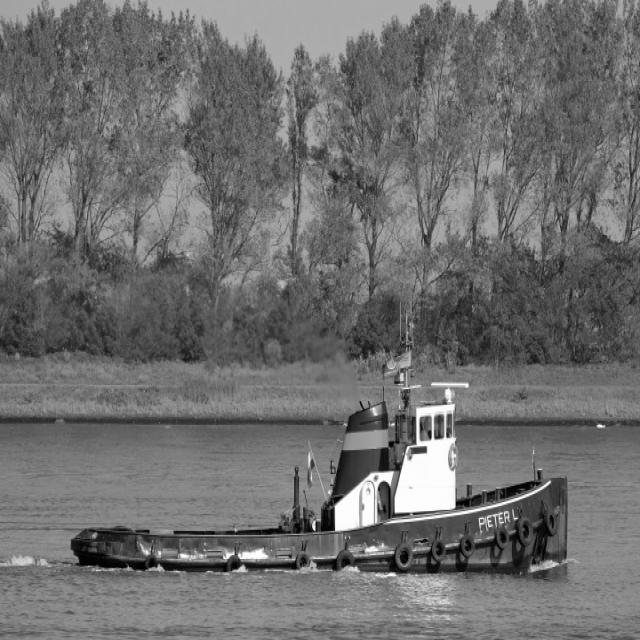tugboat: (69, 301, 575, 585)
